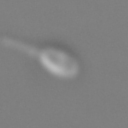normal: (1, 35, 41, 59)
